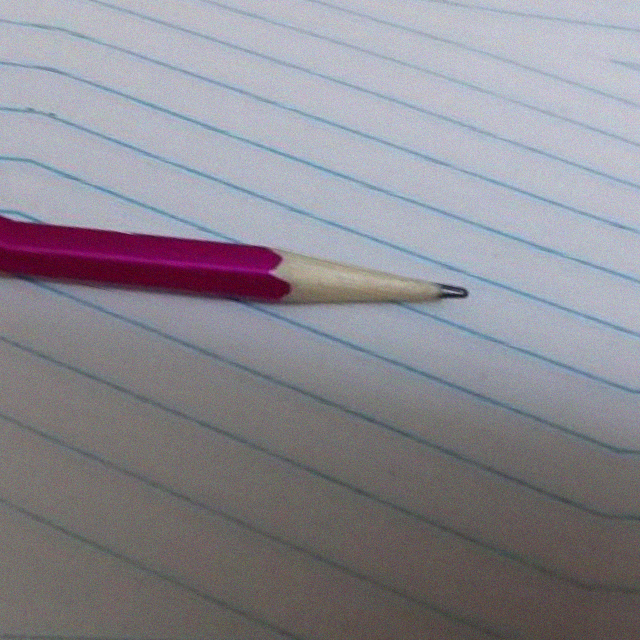pencil: (248, 226, 471, 335)
